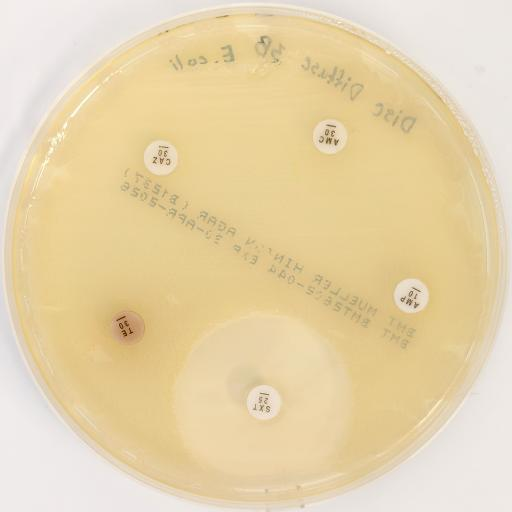disc: (311, 119, 347, 155), (246, 385, 282, 421), (393, 278, 429, 313), (144, 140, 178, 176), (110, 311, 144, 345)
